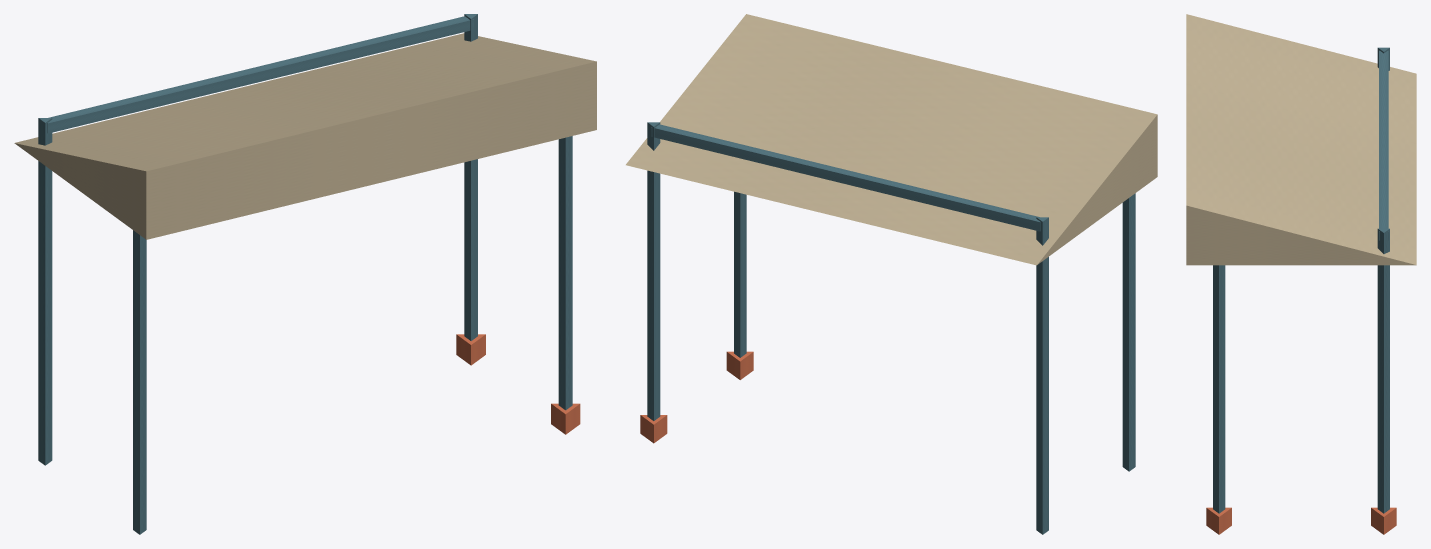
File: atlas100-s041-a08.lod2.glb
3 views of the same model, side by side, from view 1: azimuth 30°, elevation 25°; view 2: azimuth 150°, elevation 25°; view 3: azimuth 270°, elevation 25° (orthographic). The views are drawn at different scales.
Parts seen in each view (by area): view 1: atlas100-s041-a08:part-010, atlas100-s041-a08:part-008, atlas100-s041-a08:part-000, atlas100-s041-a08:part-002, atlas100-s041-a08:part-006, atlas100-s041-a08:part-004, atlas100-s041-a08:part-007, atlas100-s041-a08:part-005; view 2: atlas100-s041-a08:part-010, atlas100-s041-a08:part-008, atlas100-s041-a08:part-000, atlas100-s041-a08:part-002, atlas100-s041-a08:part-004, atlas100-s041-a08:part-006, atlas100-s041-a08:part-007, atlas100-s041-a08:part-005; view 3: atlas100-s041-a08:part-010, atlas100-s041-a08:part-004, atlas100-s041-a08:part-006, atlas100-s041-a08:part-008, atlas100-s041-a08:part-005, atlas100-s041-a08:part-007.
Part boxes in pixels (box(x1,y1,x2,y2)): atlas100-s041-a08:part-010: box(14, 33, 596, 239); atlas100-s041-a08:part-008: box(47, 16, 473, 133); atlas100-s041-a08:part-000: box(38, 118, 52, 465); atlas100-s041-a08:part-002: box(133, 230, 146, 534); atlas100-s041-a08:part-006: box(558, 136, 572, 410); atlas100-s041-a08:part-004: box(464, 14, 477, 340); atlas100-s041-a08:part-007: box(551, 403, 580, 434); atlas100-s041-a08:part-005: box(456, 334, 485, 365); atlas100-s041-a08:part-010: box(626, 14, 1157, 265); atlas100-s041-a08:part-008: box(651, 124, 1040, 231); atlas100-s041-a08:part-000: box(1036, 217, 1048, 534); atlas100-s041-a08:part-002: box(1122, 193, 1135, 471); atlas100-s041-a08:part-004: box(647, 122, 660, 420); atlas100-s041-a08:part-006: box(734, 191, 746, 357); atlas100-s041-a08:part-007: box(726, 351, 753, 379); atlas100-s041-a08:part-005: box(640, 415, 667, 443); atlas100-s041-a08:part-010: box(1186, 14, 1416, 265); atlas100-s041-a08:part-004: box(1377, 228, 1389, 513); atlas100-s041-a08:part-006: box(1213, 265, 1225, 513); atlas100-s041-a08:part-008: box(1379, 50, 1388, 240); atlas100-s041-a08:part-005: box(1371, 507, 1396, 534); atlas100-s041-a08:part-007: box(1206, 507, 1231, 534).
Bounding box in the file's own units: 5.53 × 4.4 × 2.8.
3 materials, 3 textured.
